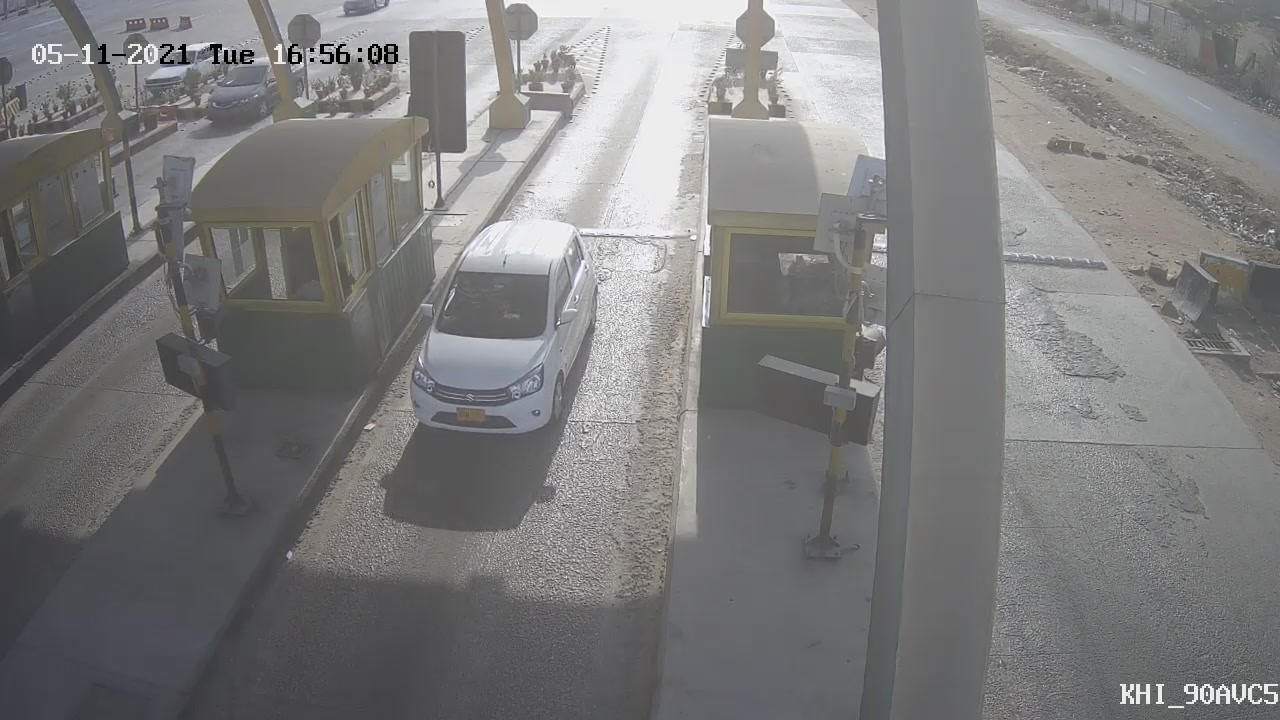F1: (377, 194, 621, 455)
